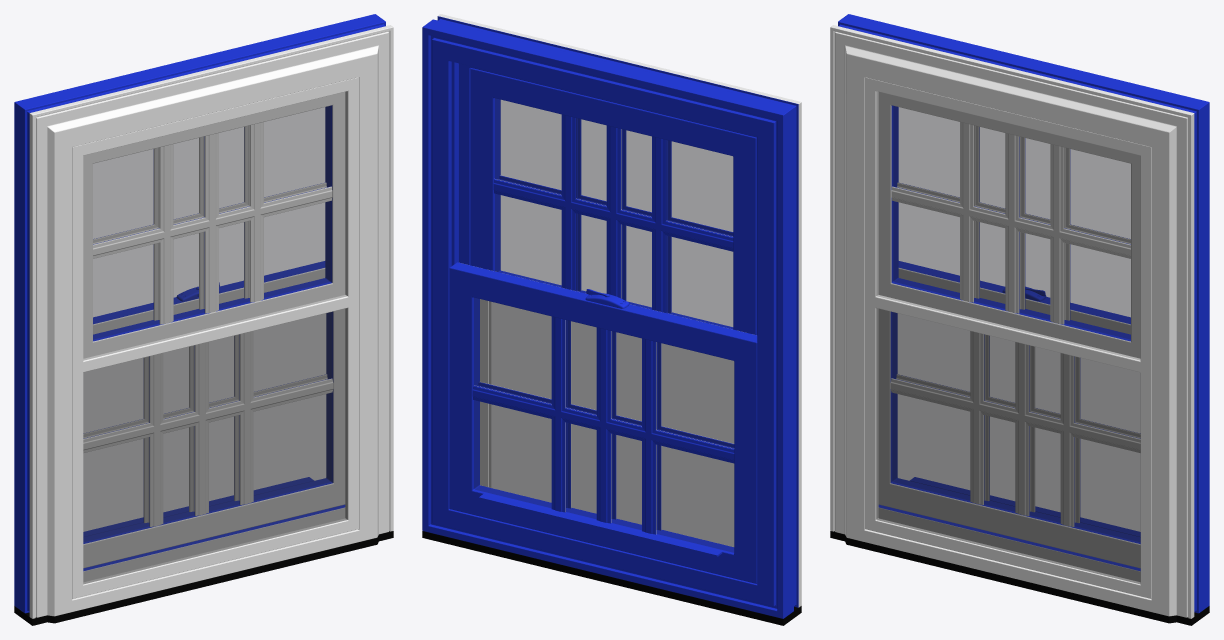
The model's file is TitanEdge.glb.
3 views of the same model, side by side, from view 1: azimuth 30°, elevation 25°; view 2: azimuth 150°, elevation 25°; view 3: azimuth 330°, elevation 25° (orthographic).
Parts seen in each view (by area): view 1: screen_glass1_full, window, screen_glass1_half, glass1, screen_frame_full, frame2, frame1, screen_frame_half, contour0_up_out, contour0_down_out, contour1_up_out, contour1_down_out (+8 smaller); view 2: window, screen_glass1_full, glass2, glass1, screen_glass1_half, frame2, frame1, contour0_down, contour1_down, contour0_up, contour1_up, bottom.black (+12 smaller); view 3: screen_glass1_full, window, screen_glass1_half, glass1, screen_frame_full, frame2, frame1, screen_frame_half, contour0_down_out, contour1_up_out, contour1_down_out, contour0_up_out (+10 smaller).
Boxes of the visible parts, left/top/right/bottom form: screen_glass1_full: left=83, top=91, right=347, bottom=583; window: left=14, top=14, right=393, bottom=618; screen_glass1_half: left=83, top=309, right=347, bottom=583; glass1: left=93, top=106, right=329, bottom=338; screen_frame_full: left=72, top=77, right=358, bottom=598; frame2: left=83, top=261, right=345, bottom=567; frame1: left=83, top=92, right=345, bottom=358; screen_frame_half: left=73, top=295, right=358, bottom=592; contour0_up_out: left=93, top=134, right=332, bottom=313; contour0_down_out: left=83, top=343, right=333, bottom=515; contour1_up_out: left=159, top=122, right=263, bottom=324; contour1_down_out: left=149, top=331, right=253, bottom=526; window: left=422, top=14, right=801, bottom=618; screen_glass1_full: left=489, top=100, right=733, bottom=546; glass2: left=474, top=298, right=733, bottom=552; glass1: left=495, top=98, right=732, bottom=328; screen_glass1_half: left=489, top=302, right=733, bottom=546; frame2: left=449, top=262, right=757, bottom=583; frame1: left=470, top=68, right=756, bottom=334; contour0_down: left=472, top=328, right=734, bottom=523; contour1_down: left=552, top=316, right=655, bottom=534; contour0_up: left=493, top=126, right=733, bottom=297; contour1_up: left=562, top=114, right=665, bottom=312; bottom.black: left=422, top=531, right=801, bottom=625; screen_glass1_full: left=876, top=91, right=1140, bottom=583; window: left=830, top=14, right=1209, bottom=618; screen_glass1_half: left=876, top=309, right=1140, bottom=583; glass1: left=894, top=106, right=1130, bottom=338; screen_frame_full: left=865, top=77, right=1151, bottom=598; frame2: left=878, top=261, right=1140, bottom=567; frame1: left=878, top=92, right=1140, bottom=358; screen_frame_half: left=865, top=295, right=1150, bottom=596; contour0_down_out: left=890, top=342, right=1140, bottom=515; contour1_up_out: left=960, top=122, right=1064, bottom=324; contour1_down_out: left=970, top=331, right=1074, bottom=526; contour0_up_out: left=891, top=133, right=1130, bottom=312.
Bounding box in the file's own units: 0.5315 × 0.7181 × 0.0663.
